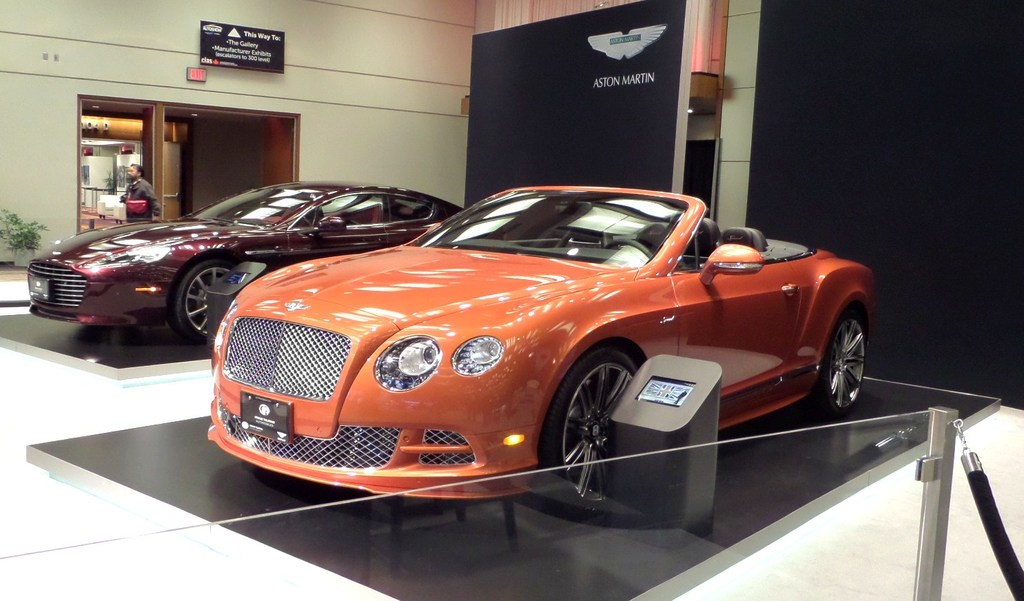Car: (210, 180, 877, 510), (22, 177, 466, 337)
